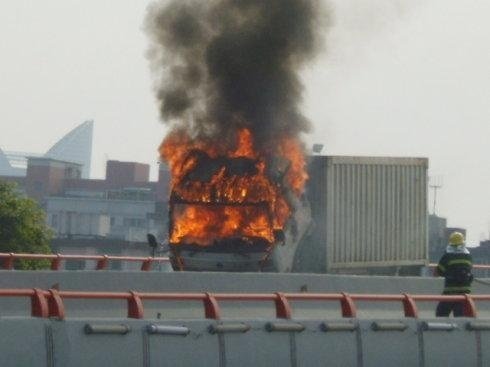fire: (164, 128, 313, 248)
